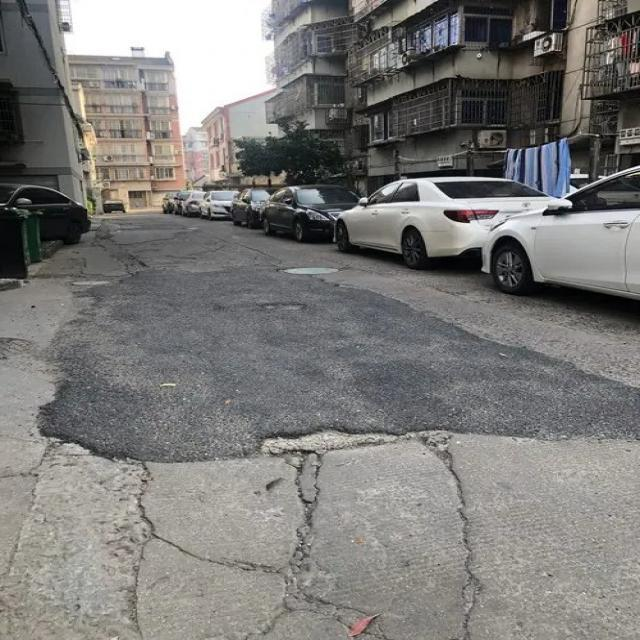pothole: (237, 416, 433, 476), (243, 509, 328, 634), (240, 295, 314, 320)
